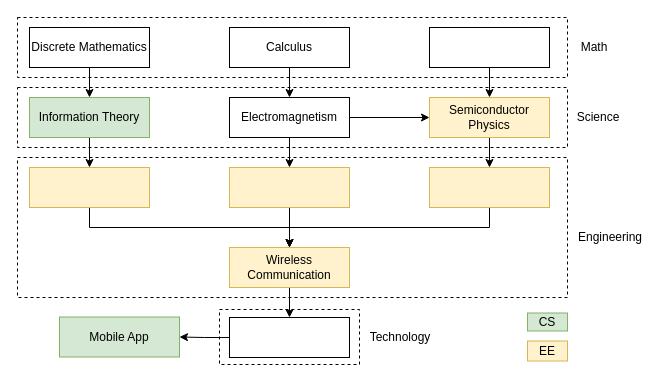
Some shapes in this 664 by 382 pixel diagram are drawn without their labels. Each missing label, with the centre of its shape:
"Calculus and Probability theory" goes at (489,47).
"Digital Circuits and transistors" goes at (489,187).
"Digital Communication" goes at (89,187).
"Digital Signal Processing" goes at (289,187).
"IEEE 802.11" goes at (289,337).
